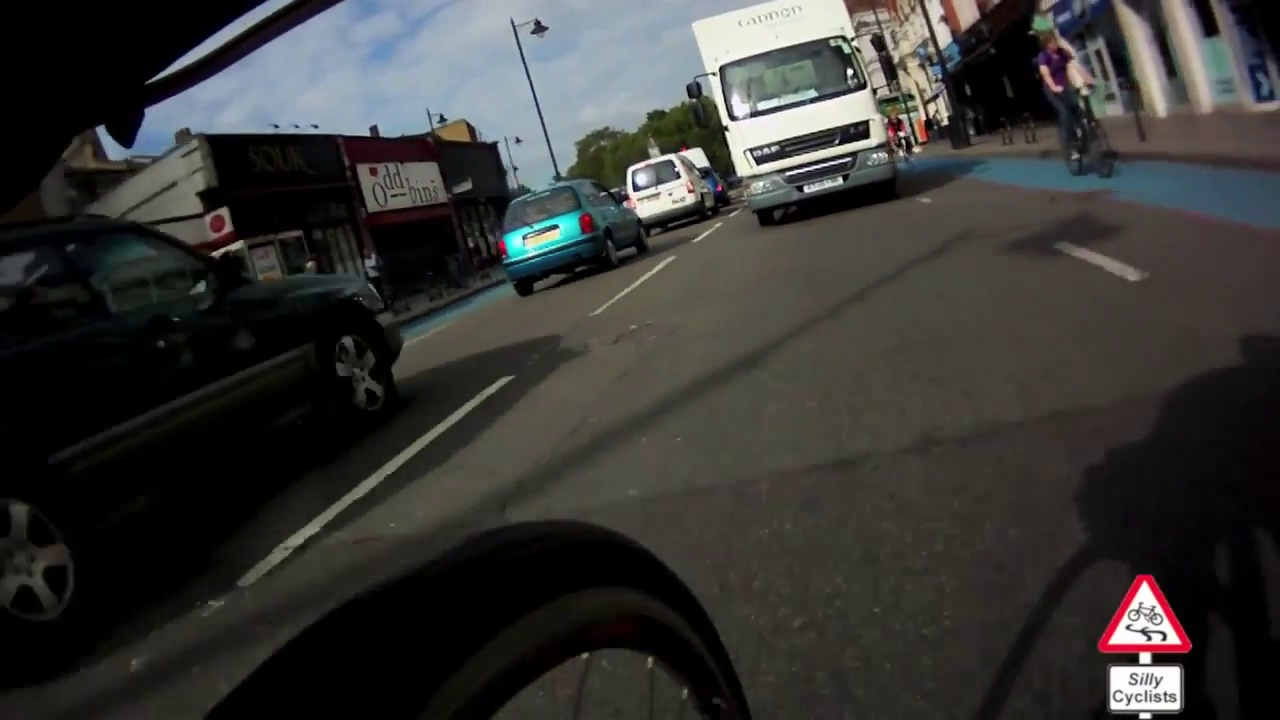cyclist_front: (1027, 29, 1124, 186)
